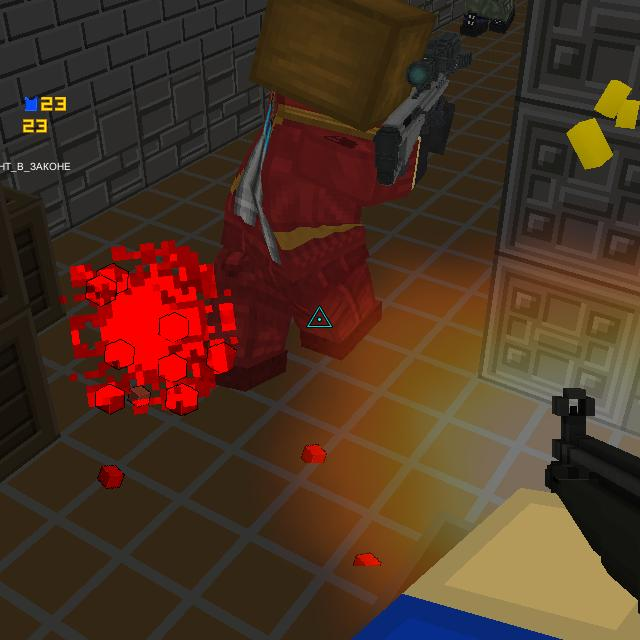enemy: (205, 2, 460, 404)
